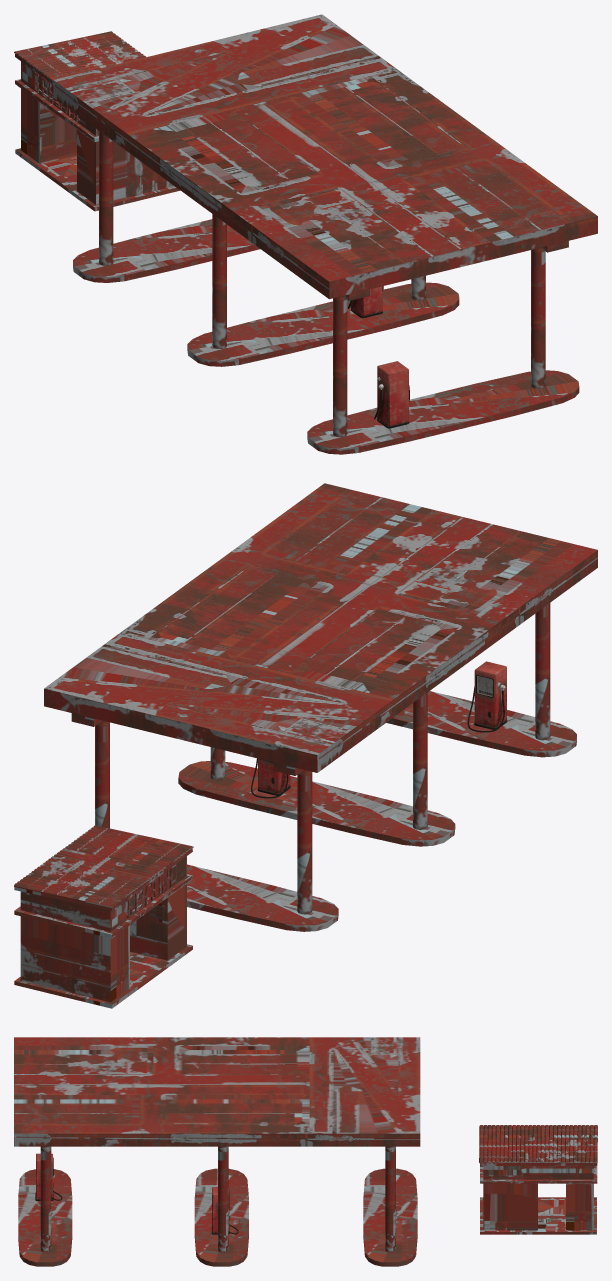
File: gas_station.gltf
3 renders of one model, top to bottom at view 1: azimuth 30°, elevation 25°; view 2: azimuth 150°, elevation 25°; view 3: azimuth 270°, elevation 25°, orthographic. The views are drawn at different scales.
Visible parts, largest first — view 1: gas_station; view 2: gas_station; view 3: gas_station.
Boxes of the visible parts, x1,y1,x2,y2 form: gas_station: [14, 14, 597, 454]; gas_station: [14, 483, 597, 1008]; gas_station: [14, 1037, 597, 1266].
Bounding box in the file's own units: 9.6 × 6.22 × 24.52.
4 materials, 4 textured.
